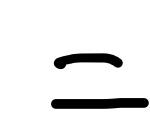eqv: (47, 48, 150, 110)
